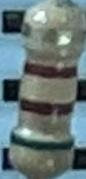Brown: (19, 96, 74, 117), (22, 61, 78, 79)
Green: (13, 132, 74, 152)
Side-Silver: (23, 20, 85, 45)
